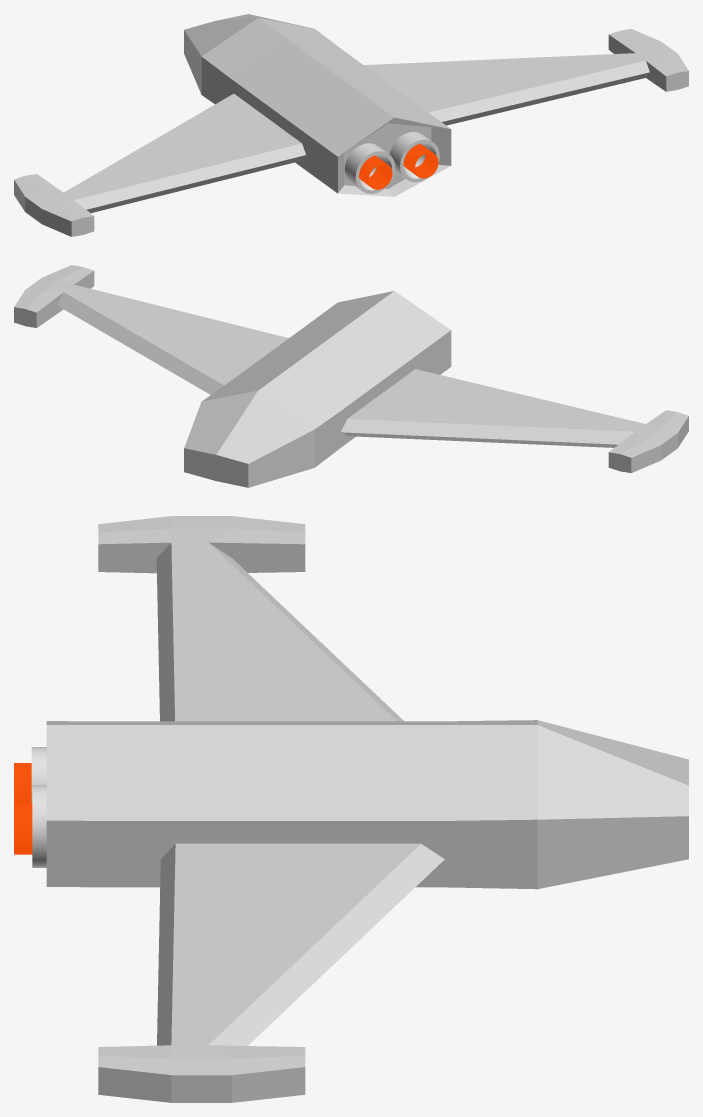
Rendered from low_poly_fighter_2.gltf.
3 views of the same model, one above another, from view 1: azimuth 30°, elevation 25°; view 2: azimuth 150°, elevation 25°; view 3: azimuth 270°, elevation 25° (orthographic). The views are drawn at different scales.
Parts seen in each view (by area): view 1: Plane, Cylinder, Cylinder.001, Cylinder.003, Cylinder.002; view 2: Plane; view 3: Plane, Cylinder.001, Cylinder.003.
Boxes of the visible parts, x1,y1,x2,y2 form: Plane: [14, 14, 688, 236]; Cylinder: [344, 143, 395, 193]; Cylinder.001: [389, 132, 439, 182]; Cylinder.003: [403, 144, 438, 178]; Cylinder.002: [359, 155, 392, 189]; Plane: [14, 265, 688, 487]; Plane: [46, 516, 688, 1102]; Cylinder.001: [32, 785, 46, 867]; Cylinder.003: [14, 803, 32, 854].
Bounding box in the file's own units: 4 × 0.477 × 2.04.
